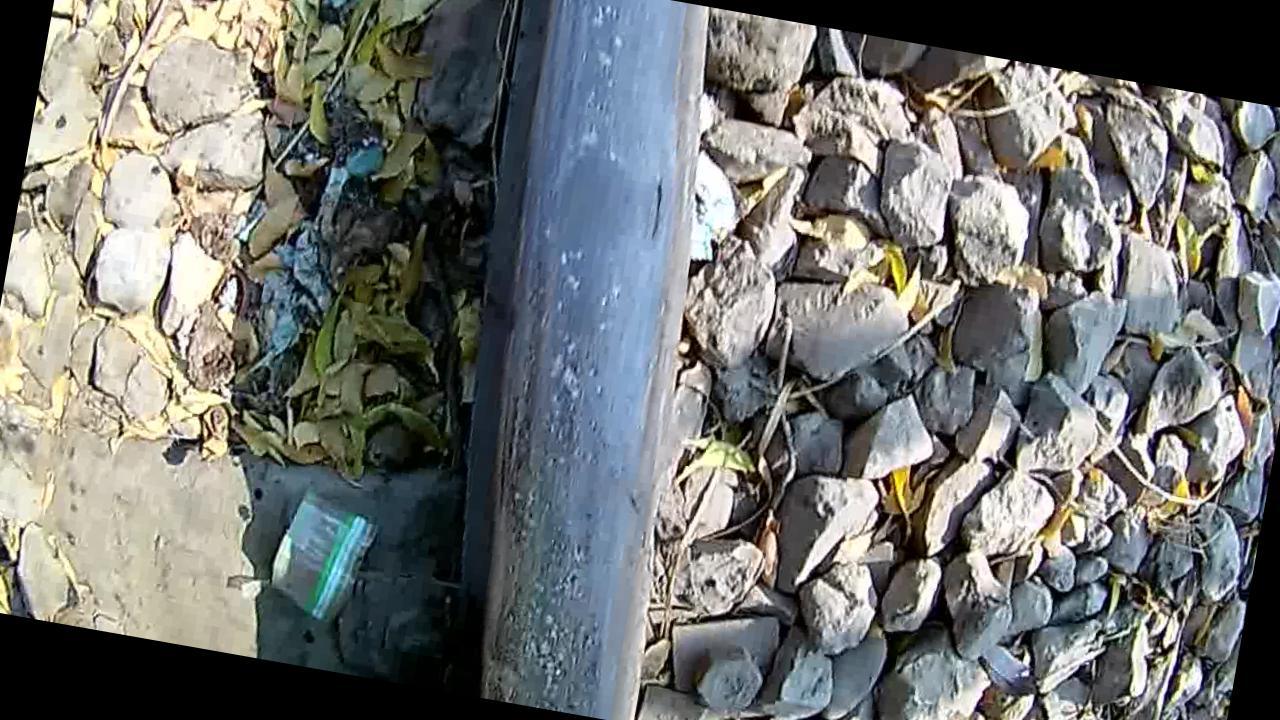bolt_missing: (488, 98, 690, 341)
